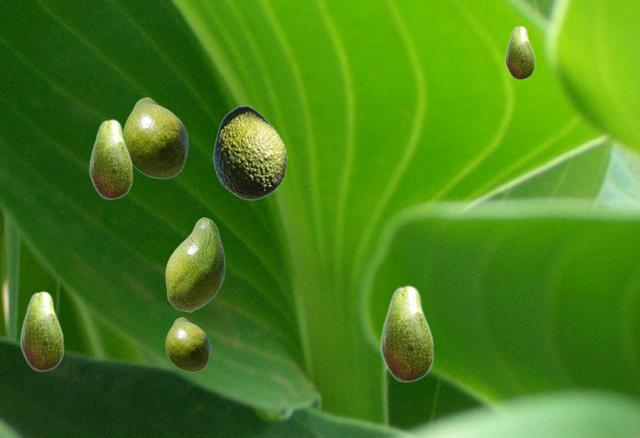avocado: (212, 105, 286, 199), (165, 217, 224, 311), (380, 284, 433, 382), (123, 97, 187, 178), (89, 118, 132, 199), (20, 290, 63, 371), (165, 317, 209, 371), (505, 25, 534, 79)
